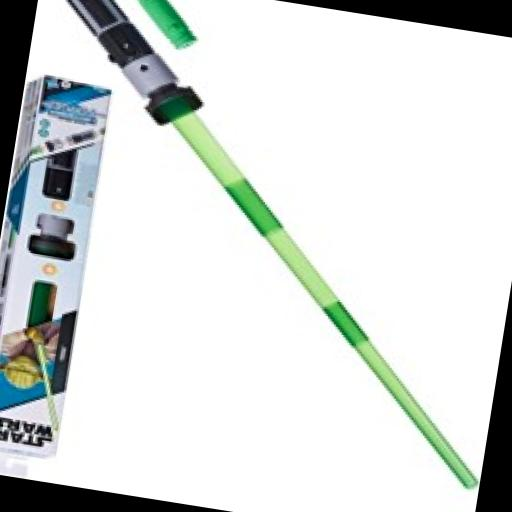lightsaber: (0, 0, 512, 491)
